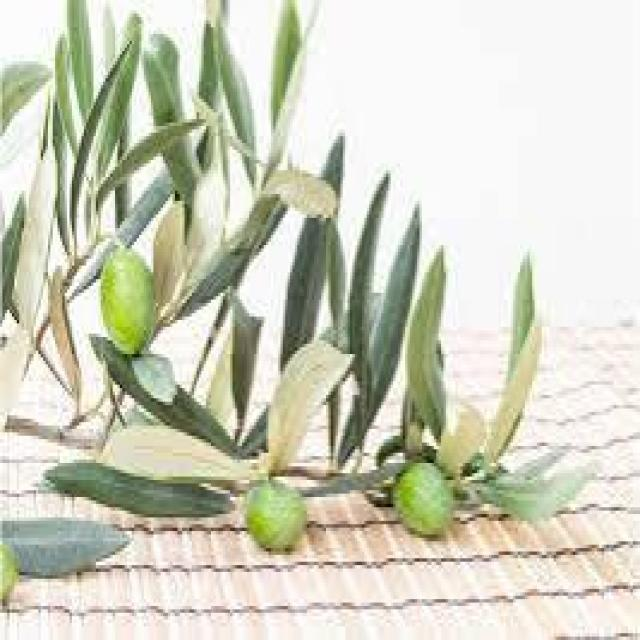Healthy: (46, 463, 228, 514), (101, 245, 153, 351), (393, 463, 453, 534)
